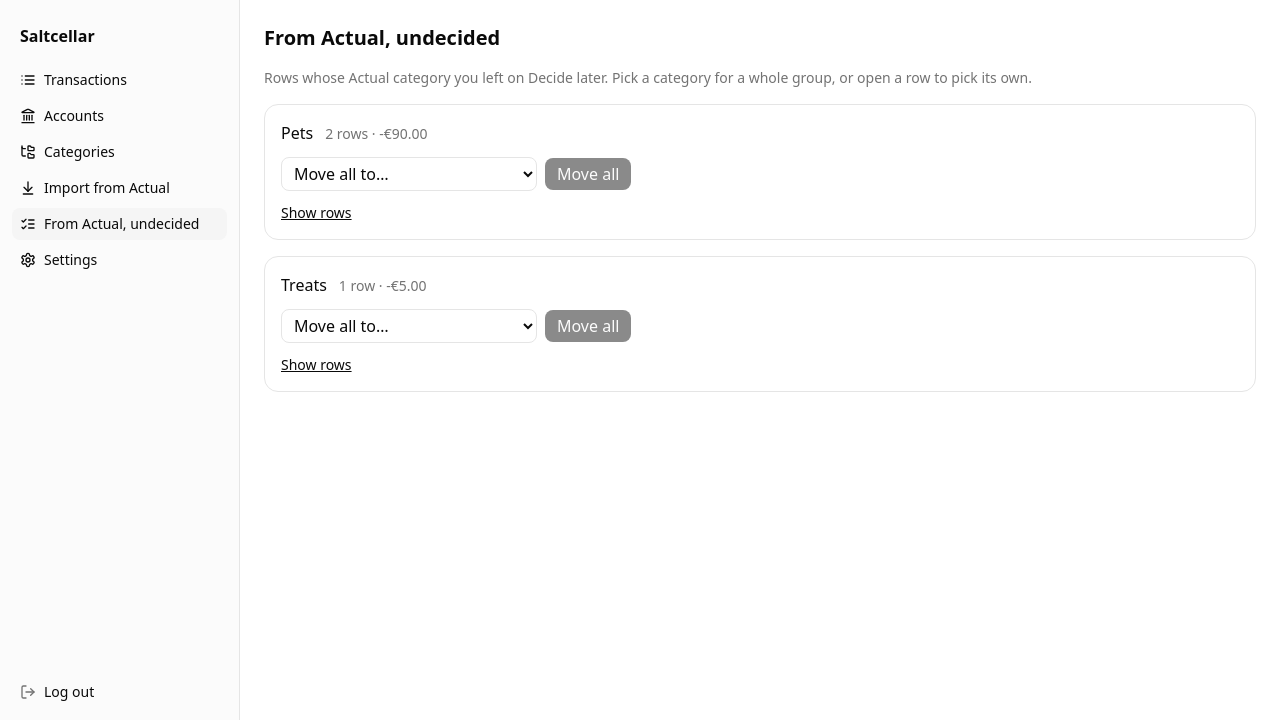
Test: From Actual, undecided › groups the rows by Actual category with count and total, and opens a group
Expected: the heading "From Actual, undecided" is shown, [264,24,500,52]
Expected: the element showing "2 rows · -€90.00" is shown, [325,124,428,144]
What coordinates should you click on to do the following:
click the button "Show rows" below "Pets"
I would click on:
 (316, 213)
Its box is [281,203,352,223].
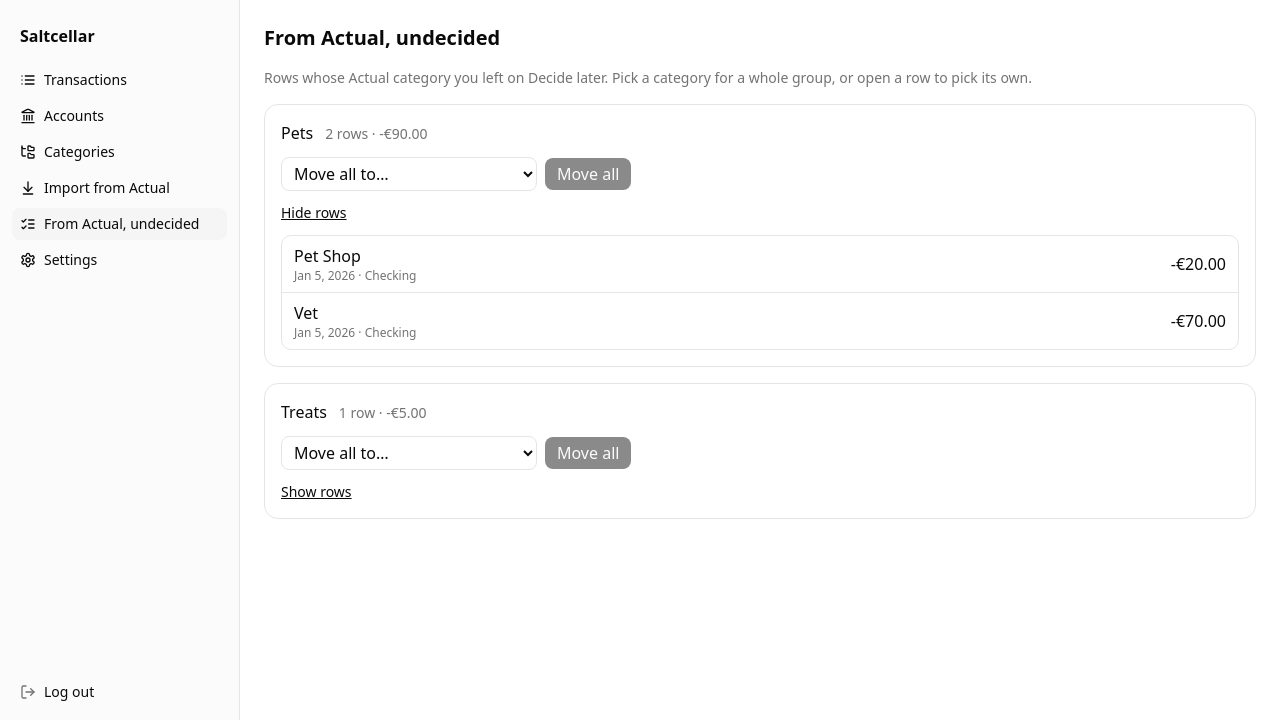
Now the list items read "Pet ShopJan 5, 2026 · Checking-€20.00", "VetJan 5, 2026 · Checking-€70.00", in this order, box [282,236,1238,293]; [282,293,1238,349]
